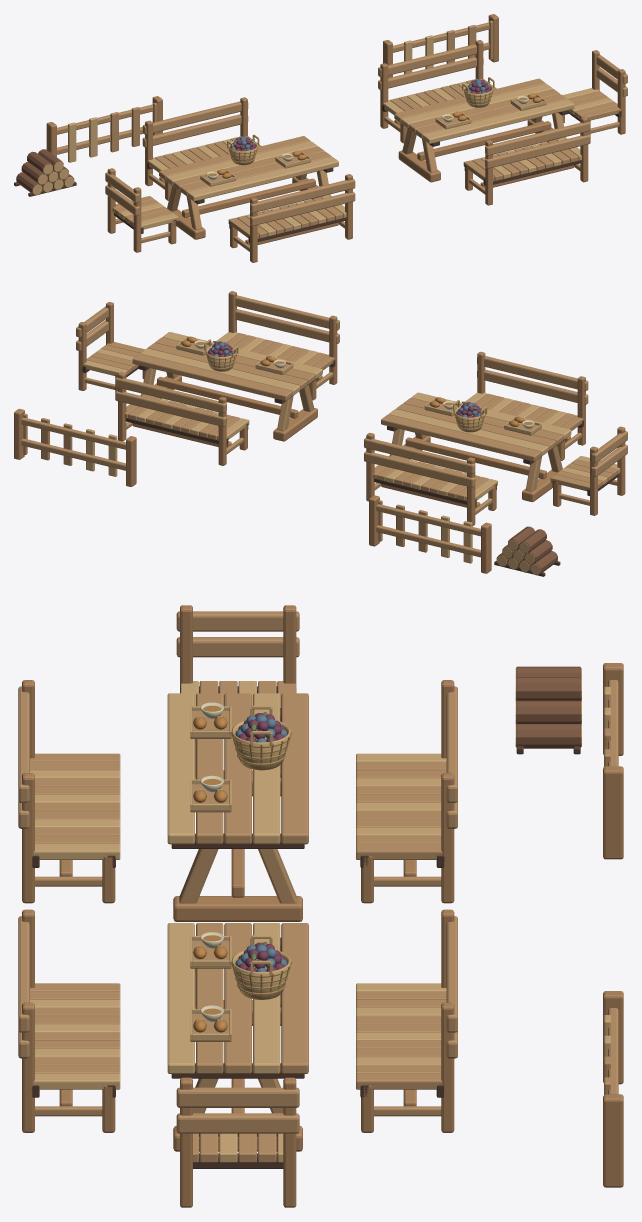
File: common_meal_10_seats.glb
The picture shows the model from 3 angles, top to bottom: view 1: azimuth 30°, elevation 25°; view 2: azimuth 150°, elevation 25°; view 3: azimuth 270°, elevation 25°; orthographic projection. The views are drawn at different scales.
Visible parts, largest first — view 1: right_table, left_table, right_bench_front, left_bench_front, right_bench_back, left_bench_back, left_chair, fence_left, right_chair, fence_right, fuel, left_fruit (+5 smaller); view 2: right_table, left_table, right_bench_back, left_bench_back, right_bench_front, left_bench_front, fence_left, fence_right, left_chair, right_chair, fuel, right_fruit (+5 smaller); view 3: left_table, right_table, left_bench_front, right_bench_front, left_bench_back, right_bench_back, right_chair, left_chair, fuel, fence_right, fence_left, left_fruit (+5 smaller).
Part boxes in pixels (bbox=[...]): right_table: bbox=[394, 78, 574, 182]; left_table: bbox=[159, 136, 338, 239]; right_bench_front: bbox=[463, 116, 590, 205]; left_bench_front: bbox=[228, 174, 355, 262]; right_bench_back: bbox=[378, 40, 496, 143]; left_bench_back: bbox=[142, 97, 261, 200]; left_chair: bbox=[105, 168, 178, 252]; fence_left: bbox=[46, 96, 162, 162]; right_chair: bbox=[562, 50, 627, 135]; fence_right: bbox=[383, 14, 498, 77]; fuel: bbox=[14, 149, 76, 196]; left_fruit: bbox=[227, 134, 259, 165]; right_table: bbox=[132, 332, 322, 441]; left_table: bbox=[381, 392, 571, 502]; right_bench_back: bbox=[115, 372, 249, 465]; left_bench_back: bbox=[364, 433, 497, 525]; right_bench_front: bbox=[216, 291, 339, 400]; left_bench_front: bbox=[465, 351, 588, 460]; fence_left: bbox=[369, 495, 491, 573]; fence_right: bbox=[14, 408, 136, 486]; left_chair: bbox=[550, 426, 627, 515]; right_chair: bbox=[76, 302, 145, 392]; fuel: bbox=[494, 526, 560, 576]; right_fruit: bbox=[204, 339, 238, 371]; left_table: bbox=[167, 693, 308, 921]; right_table: bbox=[167, 923, 308, 1151]; left_bench_front: bbox=[18, 680, 120, 903]; right_bench_front: bbox=[18, 909, 120, 1132]; left_bench_back: bbox=[356, 680, 457, 903]; right_bench_back: bbox=[356, 909, 457, 1132]; right_chair: bbox=[176, 1077, 299, 1207]; left_chair: bbox=[176, 605, 299, 707]; fuel: bbox=[515, 666, 581, 754]; fence_right: bbox=[603, 991, 623, 1187]; fence_left: bbox=[603, 663, 623, 859]; left_fruit: bbox=[231, 705, 291, 770].
Bounding box in the file's own units: 9.17 × 1.19 × 4.68.
